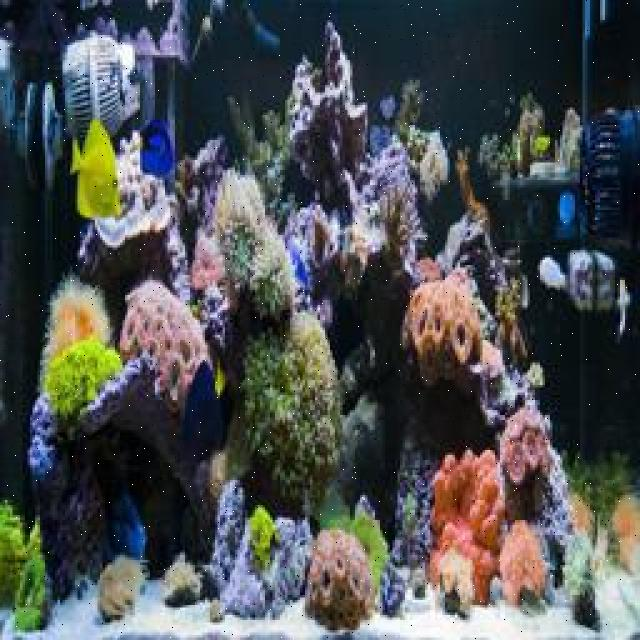aquatic plants: (41, 339, 124, 415)
fish: (68, 118, 123, 220), (183, 358, 227, 464), (140, 120, 176, 178)
reefs: (428, 449, 508, 602), (120, 279, 209, 405), (398, 267, 481, 387), (304, 529, 376, 631)
robots: (17, 28, 126, 192), (579, 110, 625, 239)
